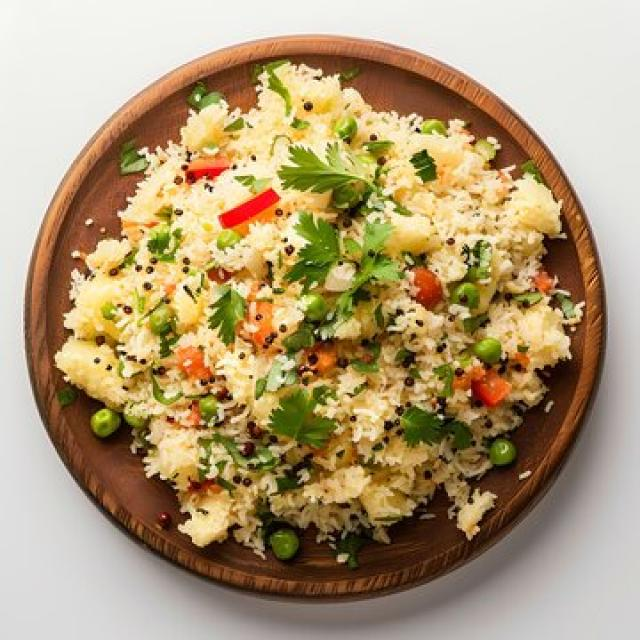UPMA: (55, 60, 583, 565)
